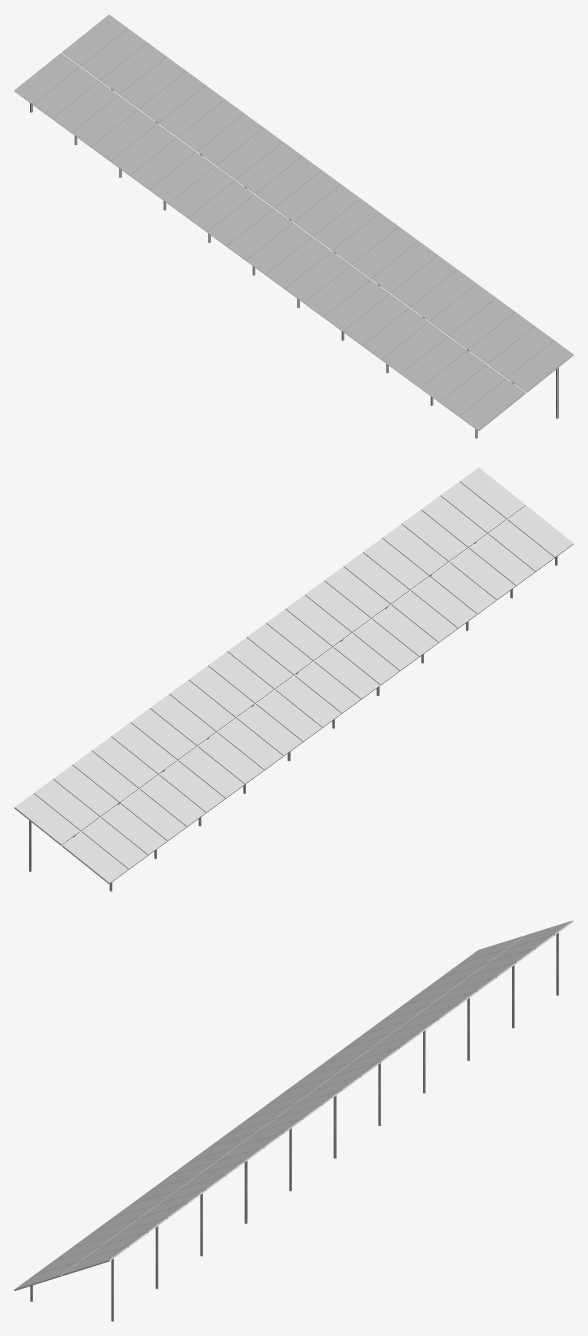
The model's file is 14kWp_groundmount.glb.
3 renders of one model, top to bottom at view 1: azimuth 30°, elevation 25°; view 2: azimuth 150°, elevation 25°; view 3: azimuth 330°, elevation 25°, orthographic.
Parts seen in each view (by area): view 1: instance_13.001, instance_9.003, instance_1.003, instance_2.005, instance_3.005, instance_11.001, instance_4.003, instance_6.003, instance_7.005, instance_6.001, instance_15.003, instance_15.005 (+36 smaller); view 2: instance_15.003, instance_10.005, instance_1.001, instance_6.001, instance_3.003, instance_11.001, instance_13.001, instance_2.003, instance_4.003, instance_7.003, instance_9.003, instance_14.005 (+36 smaller); view 3: no part large enough to name.
Part boxes in pixels (x1,y1,x2,y2): instance_13.001: (421,350,486,401); instance_9.003: (246,223,311,274); instance_1.003: (256,156,321,207); instance_2.005: (197,113,263,164); instance_3.005: (139,71,204,122); instance_11.001: (363,308,428,359); instance_4.003: (305,265,369,316); instance_6.003: (314,199,379,249); instance_7.005: (81,28,146,79); instance_6.001: (469,312,534,363); instance_15.003: (188,180,253,231); instance_15.005: (33,67,98,118); instance_15.003: (237,704,302,755); instance_10.005: (131,708,196,759); instance_1.001: (363,538,428,589); instance_6.001: (421,496,486,546); instance_3.003: (247,623,312,674); instance_11.001: (411,577,476,627); instance_13.001: (469,534,534,585); instance_2.003: (305,581,370,631); instance_4.003: (353,619,418,670); instance_7.003: (189,666,254,716); instance_9.003: (295,662,360,712); instance_14.005: (15,793,79,844).
Bounding box in the file's own units: 2.94 × 2.05 × 24.69.
2 materials, 1 textured.
